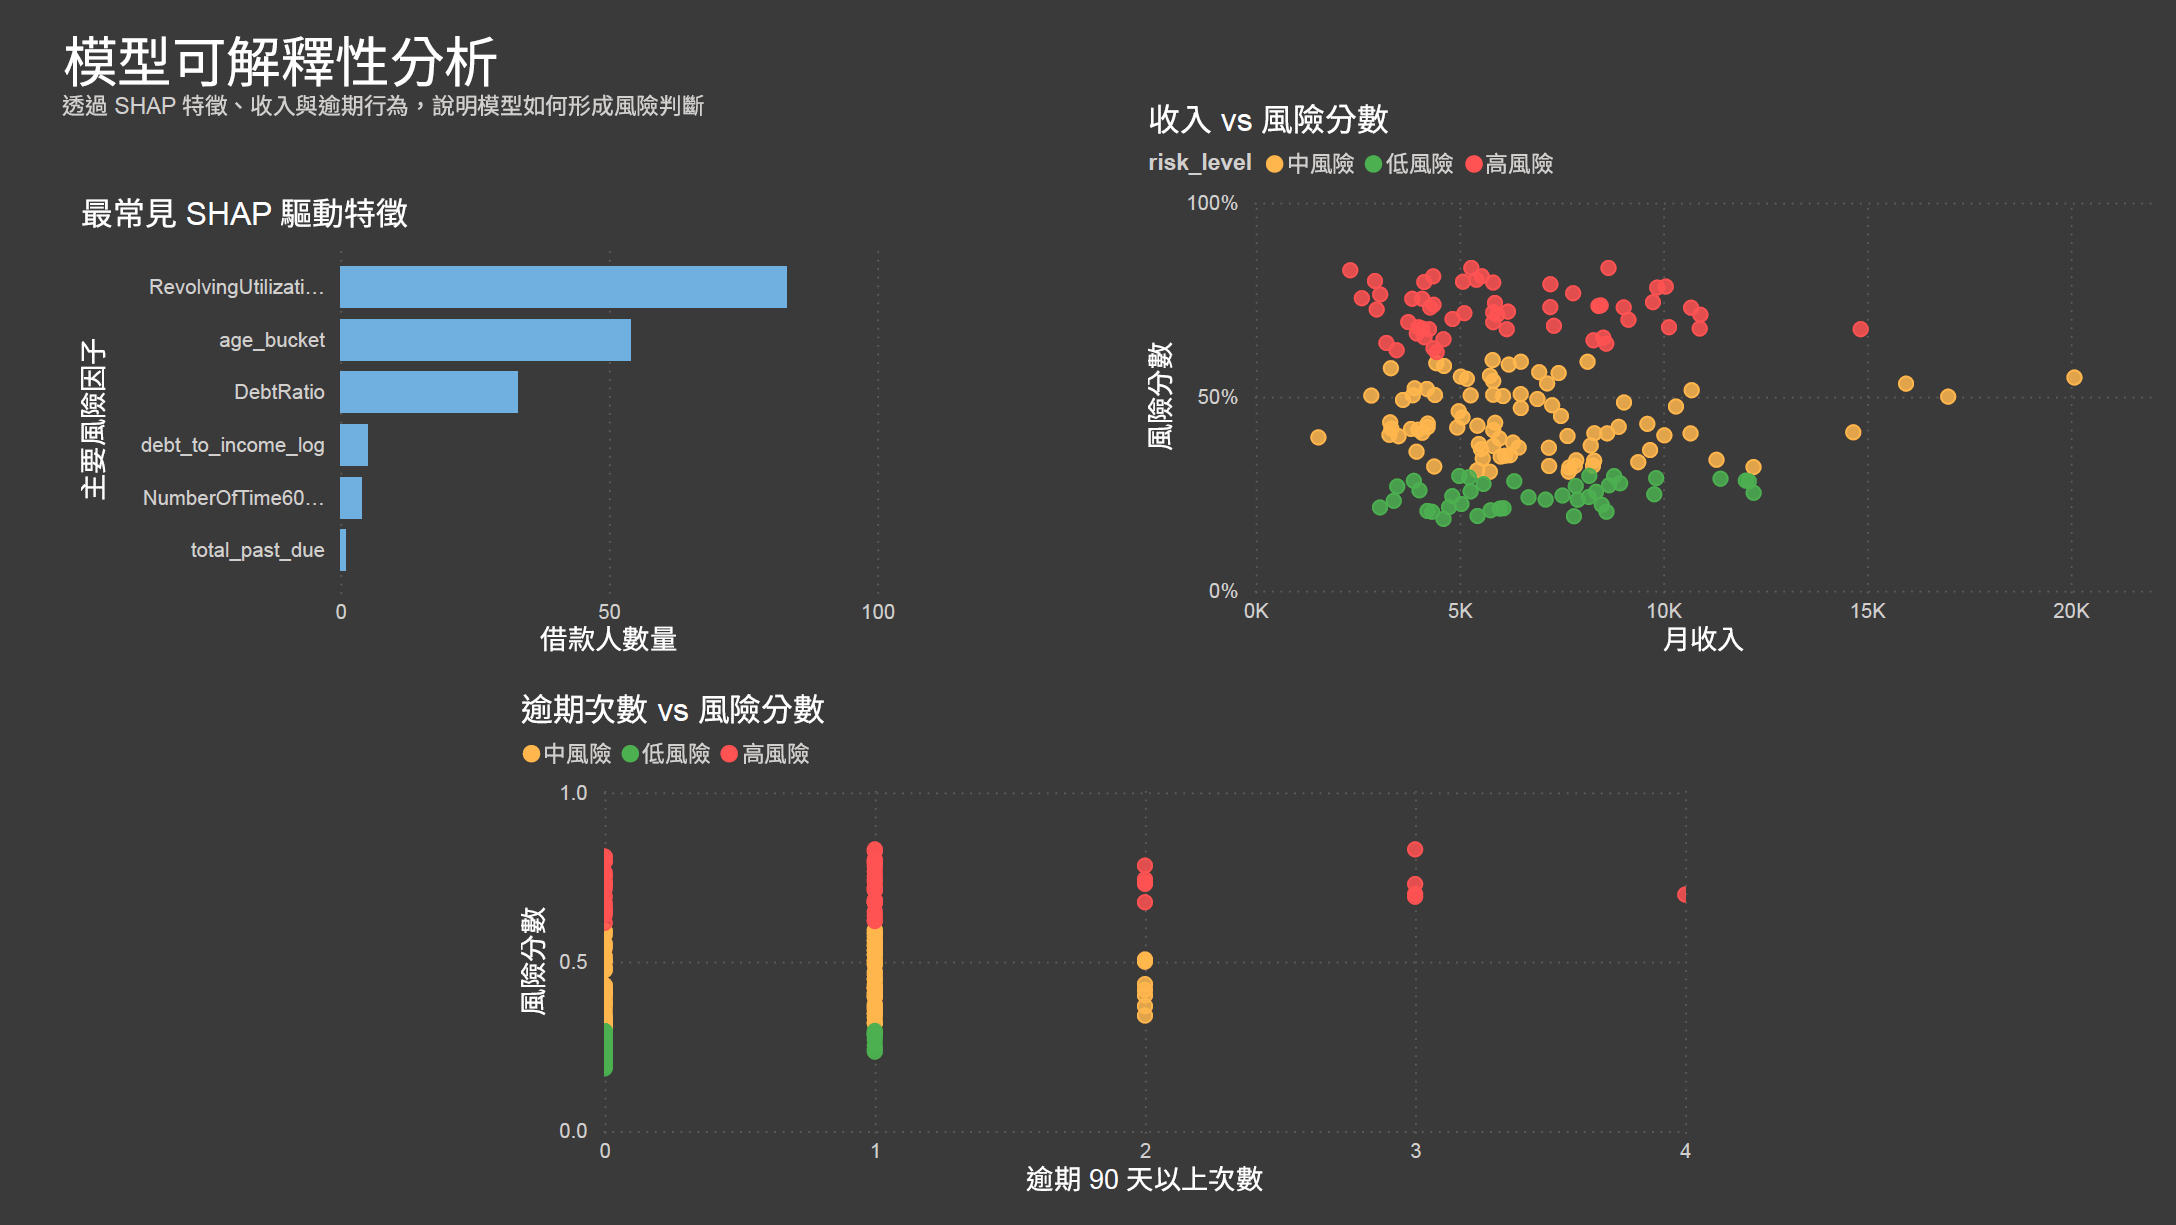

Layout of this report page (visuals, bound fields, positions):
{"tool":"powerbi","page":{"name":"Model Explainability","canvas":[1280,720],"ordinal":1},"visuals":[{"type":"clusteredBarChart","title":"最常見 SHAP 驅動特徵","fields":{"Category":["powerbi_dashboard_clean.top_shap_feature"],"Y":["CountNonNull(powerbi_dashboard_clean.borrower_id)"]},"box":[43.6,109.8,488.6,279.7],"z":0},{"type":"scatterChart","title":"收入 vs 風險分數","fields":{"X":["powerbi_dashboard_clean.MonthlyIncome"],"Y":["powerbi_dashboard_clean.risk_score"],"Series":["powerbi_dashboard_clean.risk_level"]},"box":[670,55.4,610,333.7],"z":1000},{"type":"scatterChart","title":"逾期次數 vs 風險分數","fields":{"X":["powerbi_dashboard_clean.NumberOfTimes90DaysLate"],"Y":["powerbi_dashboard_clean.risk_score"],"Series":["powerbi_dashboard_clean.risk_level"]},"box":[302.1,401.3,695.7,304.7],"z":2000},{"type":"textbox","title":"模型可解釋性分析","box":[33.1,10.6,489.9,64.8],"z":3000}]}

Visuals, with their boxes in screenshot pixels (x1, y1, x2, y2), scaled from the page's 1280x720 canvas onto the 2176x1225 screenshot:
"最常見 SHAP 驅動特徵" clusteredBarChart: rect(74, 187, 905, 663)
"收入 vs 風險分數" scatterChart: rect(1139, 94, 2175, 662)
"逾期次數 vs 風險分數" scatterChart: rect(514, 683, 1696, 1201)
"模型可解釋性分析" textbox: rect(56, 18, 889, 128)
